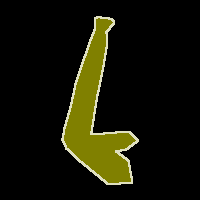tie: (62, 16, 138, 184)
